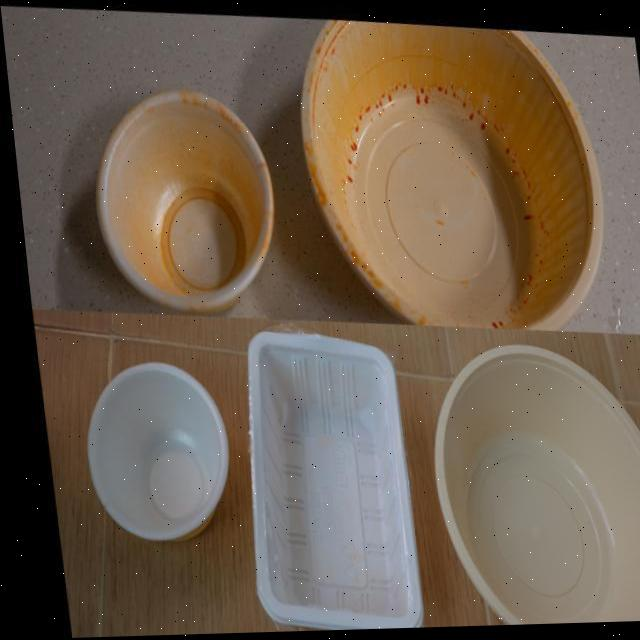disposable: (184, 294, 431, 636)
